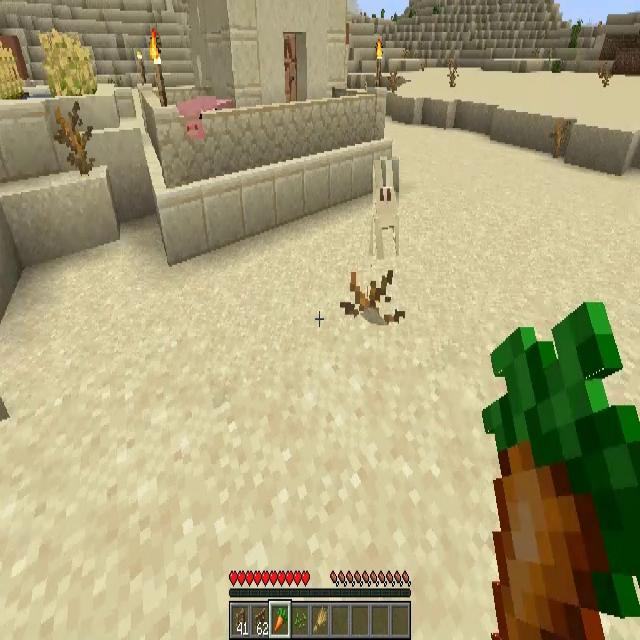pig: (176, 103, 203, 127)
rabbit: (373, 160, 399, 260)
